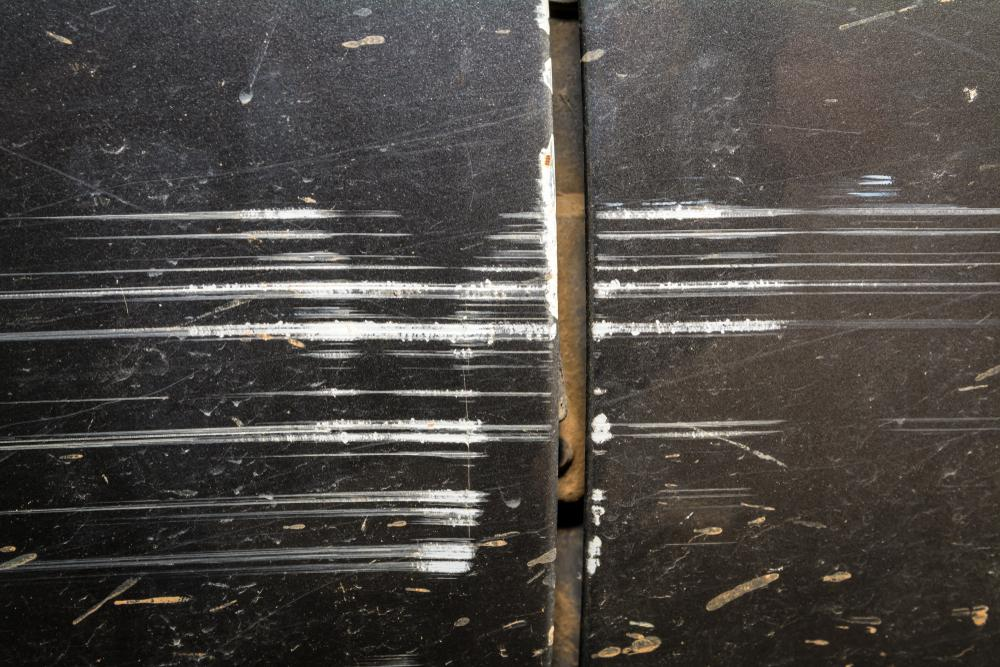scratch: (0, 124, 561, 592), (583, 171, 1000, 588)
